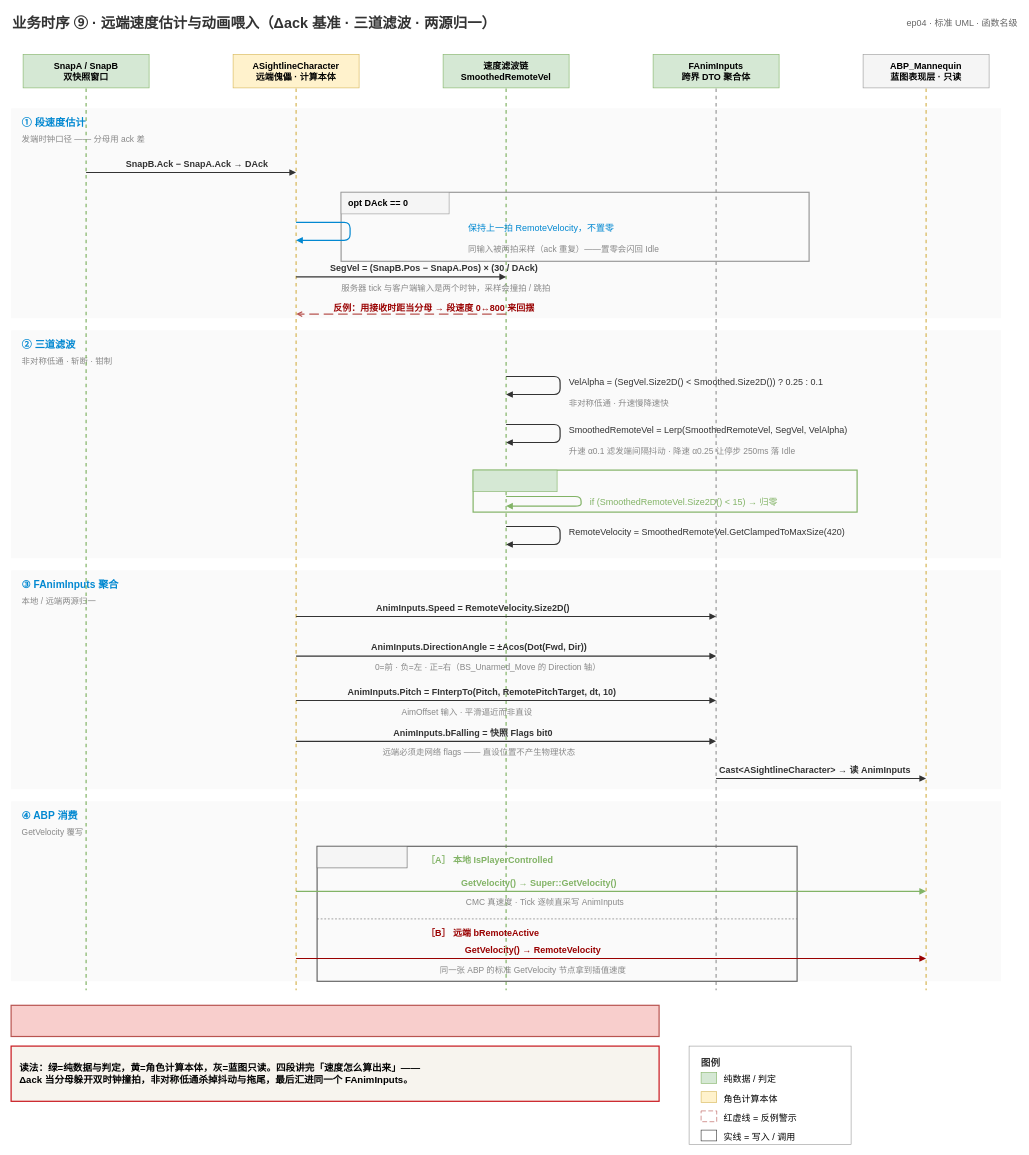
The diagram is 1029 pixels wide and 1155 high, and some of its shapes have lost their labels. The shapes that lost their labels are listed below. From the top down, each one's centre as x and y in pixels, then its label:
At (514,481): "opt 斩断".
At (361,857): "alt 身份".
At (334,1020): "铁律：ABP 不读 GetVelocity / IsFalling —— 由 C++ 替它采集并聚合进 FAnimInputs".
